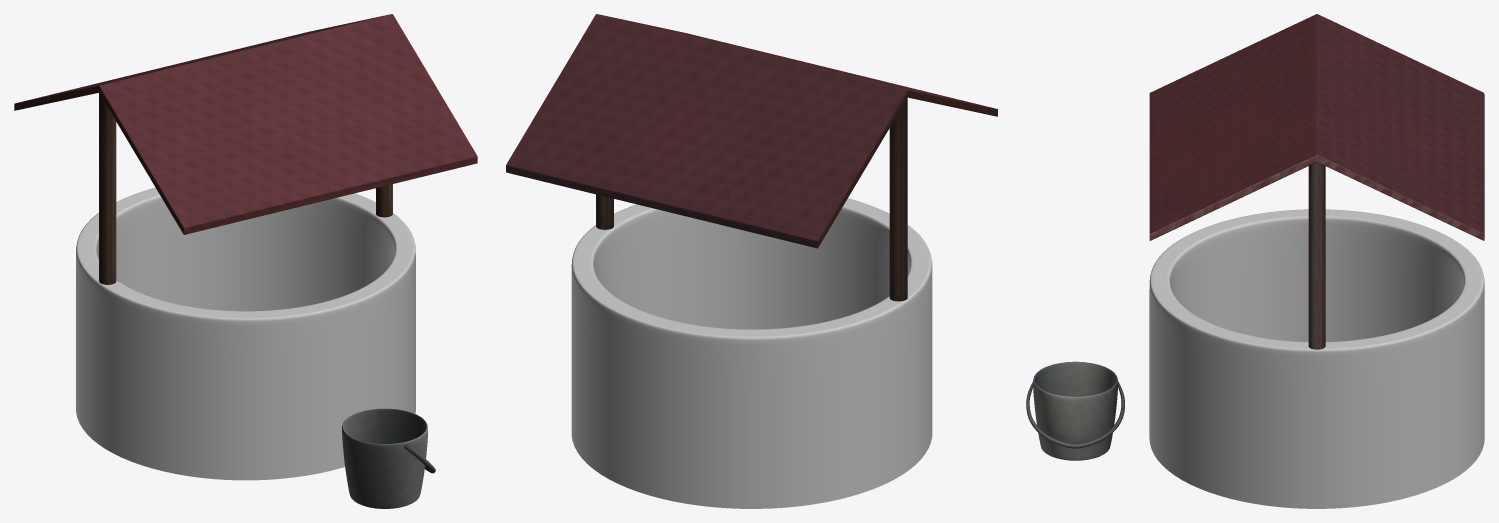
Rendered from Pozo.fbx.
3 views of the same model, side by side, from view 1: azimuth 30°, elevation 25°; view 2: azimuth 150°, elevation 25°; view 3: azimuth 270°, elevation 25° (orthographic). The views are drawn at different scales.
Visible parts, largest first — view 1: pPipe1, pPlane1, cubo_geo, pCylinder1, pCylinder2; view 2: pPipe1, pPlane1, pCylinder1, pCylinder2; view 3: pPipe1, pPlane1, cubo_geo, pCylinder2, asa_geo.
Part boxes in pixels (x1,y1,x2,y2): pPipe1: (76, 187, 415, 480); pPlane1: (14, 14, 477, 234); cubo_geo: (342, 408, 427, 508); pCylinder1: (99, 93, 116, 284); pCylinder2: (376, 184, 392, 217); pPipe1: (571, 198, 932, 508); pPlane1: (506, 14, 997, 248); pCylinder1: (889, 98, 907, 301); pCylinder2: (596, 194, 613, 229); pPipe1: (1149, 209, 1484, 508); pPlane1: (1149, 14, 1484, 240); cubo_geo: (1033, 361, 1117, 460); pCylinder2: (1308, 162, 1325, 349); asa_geo: (1026, 381, 1124, 448).
Bounding box in the file's own units: 14.96 × 17.44 × 20.45.
